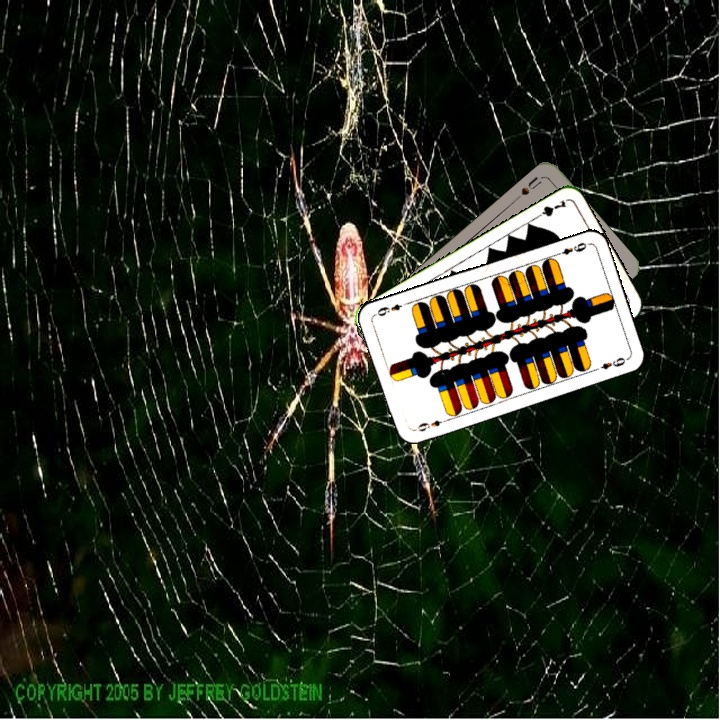E9: (551, 238, 589, 259), (411, 415, 451, 434)
G7: (530, 196, 569, 222)
SU: (511, 172, 545, 203)
